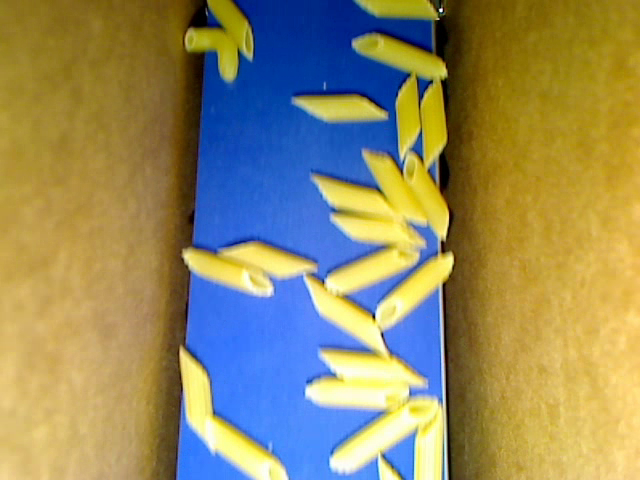elbow: (187, 26, 238, 82)
penne: (327, 391, 436, 474), (299, 271, 391, 362), (376, 244, 459, 332), (359, 147, 427, 232), (204, 411, 285, 479), (177, 240, 275, 296), (214, 230, 317, 281), (307, 168, 406, 219), (175, 334, 217, 450), (402, 147, 453, 240), (325, 247, 422, 294), (350, 34, 451, 79), (311, 351, 429, 386), (325, 211, 434, 248), (299, 375, 407, 408), (409, 398, 453, 479), (200, 1, 256, 64), (295, 95, 392, 126), (395, 70, 422, 157), (422, 73, 445, 173), (353, 1, 444, 26), (373, 453, 410, 479)
